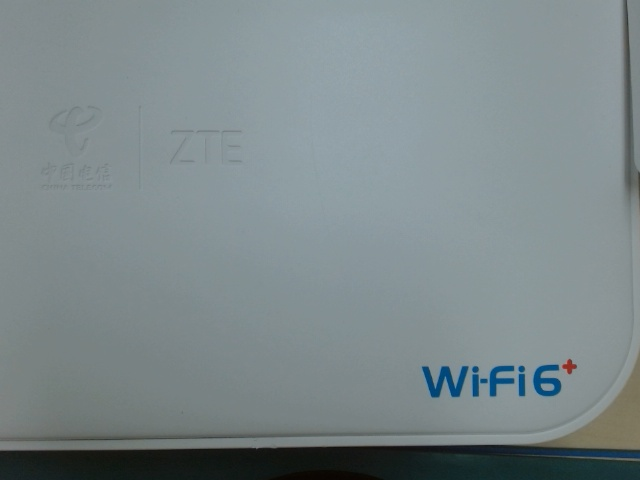AJ_ZTEWIFI6Plus: (406, 349, 584, 405)
